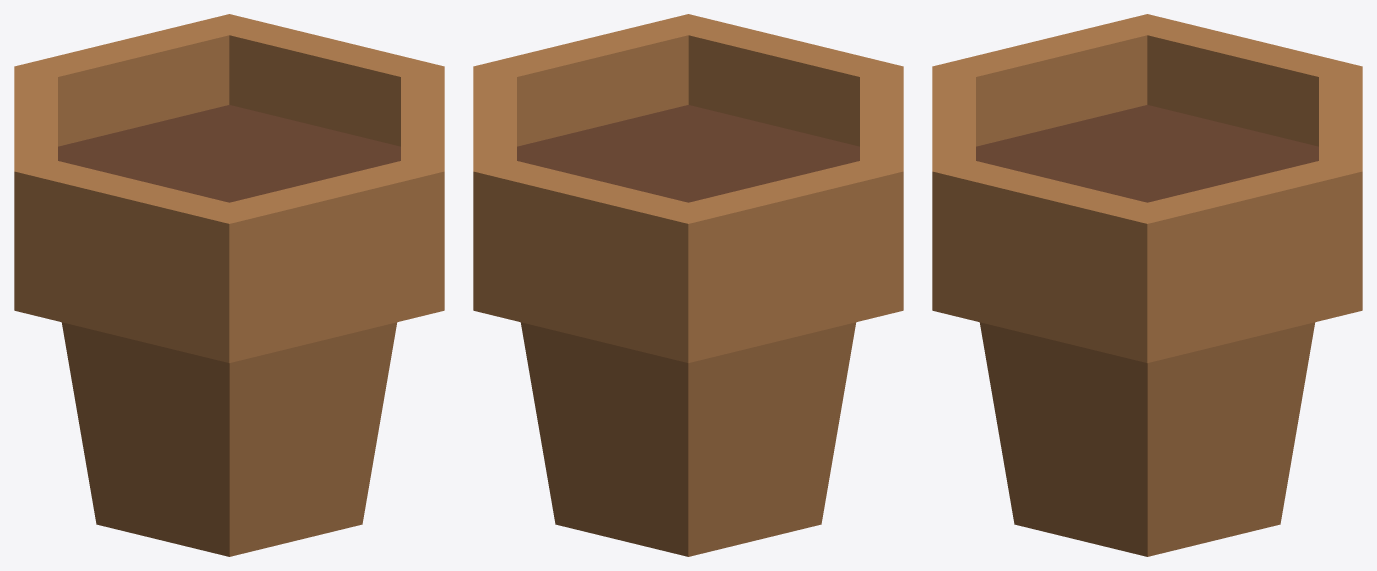
The model's file is pot_small.glb.
3 renders of one model, left to right at view 1: azimuth 30°, elevation 25°; view 2: azimuth 150°, elevation 25°; view 3: azimuth 270°, elevation 25°, orthographic.
Parts seen in each view (by area): view 1: pot_small; view 2: pot_small; view 3: pot_small.
Boxes of the visible parts, x1,y1,x2,y2 form: pot_small: (14,14,444,556); pot_small: (473,14,903,556); pot_small: (932,14,1362,556).
Bounding box in the file's own units: 0.4528 × 0.3752 × 0.3922.
